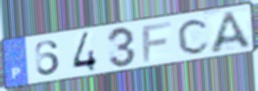3: (105, 25, 137, 69)
4: (69, 30, 101, 74)
6: (34, 40, 62, 78)
A: (209, 9, 255, 55)
C: (176, 17, 212, 56)
F: (140, 19, 174, 64)
